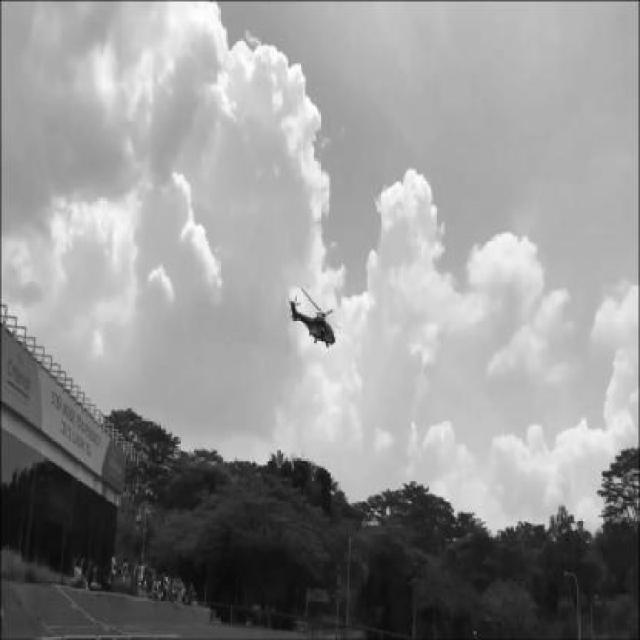Helicopter: (288, 285, 346, 349)
